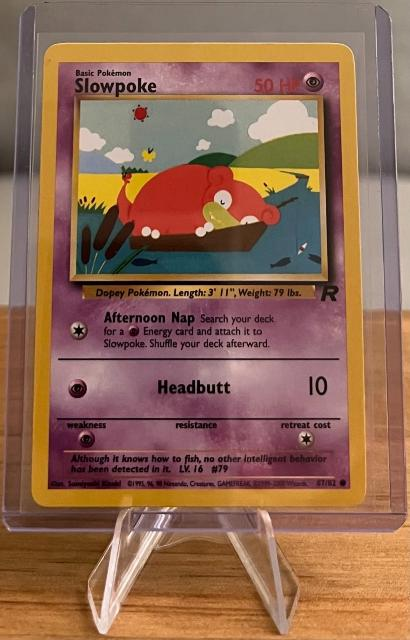Card: (27, 39, 372, 512)
Name: (72, 77, 160, 99)
